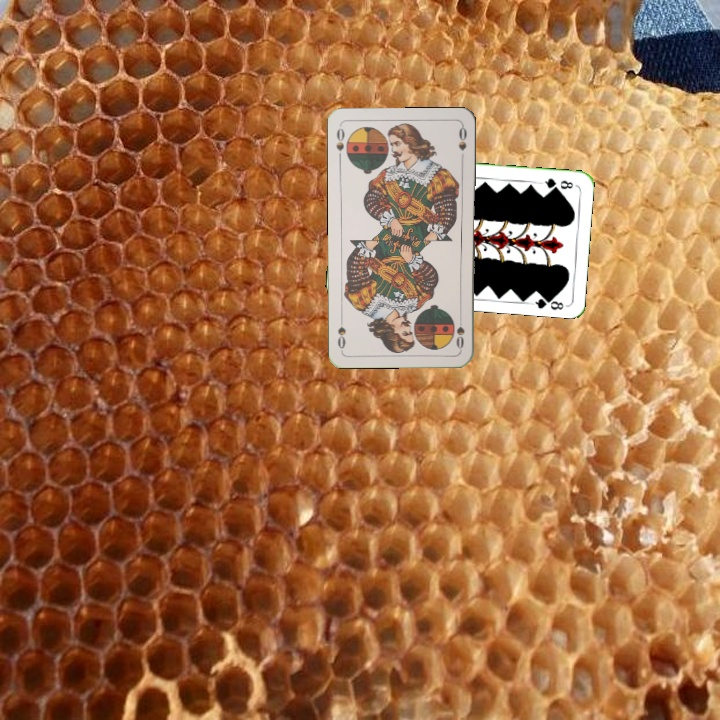G8: (537, 174, 576, 192)
SO: (452, 311, 467, 351), (332, 124, 347, 163)
